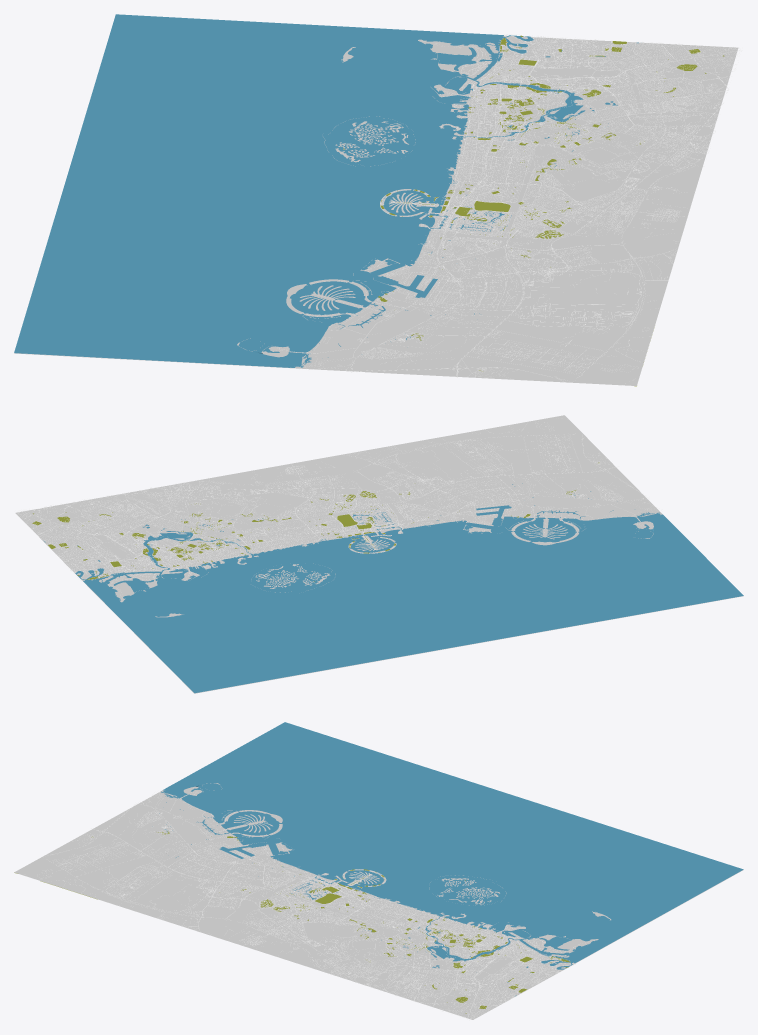
The picture shows the model from 3 angles, top to bottom: view 1: azimuth 30°, elevation 25°; view 2: azimuth 150°, elevation 25°; view 3: azimuth 270°, elevation 25°; orthographic projection. The views are drawn at different scales.
Visible parts, largest first — view 1: main_water, Ground_color, road, Green_zone; view 2: main_water, Ground_color, road, Green_zone; view 3: main_water, Ground_color, road, Green_zone.
Part boxes in pixels (box(x1,y1,x2,y2)): main_water: box(14, 14, 638, 367); Ground_color: box(14, 35, 738, 385); road: box(279, 34, 742, 383); Green_zone: box(343, 35, 724, 386); main_water: box(43, 483, 743, 693); Ground_color: box(15, 415, 743, 693); road: box(18, 421, 662, 601); Green_zone: box(32, 462, 599, 581); main_water: box(159, 722, 743, 995); Ground_color: box(14, 783, 743, 1019); road: box(41, 792, 585, 1020); Green_zone: box(14, 831, 570, 1013).
Size of the model in its own units: 878 by 1.95 by 905.
